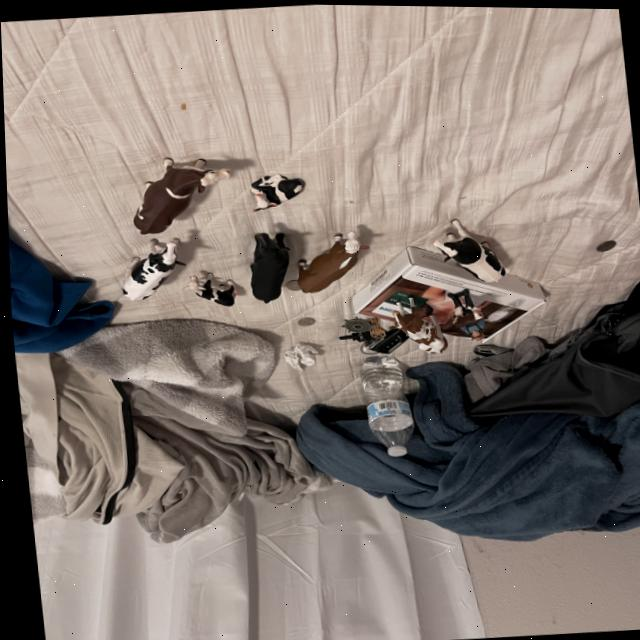cow: (112, 132, 230, 242), (107, 226, 192, 308), (284, 222, 372, 299), (428, 214, 510, 289), (381, 286, 455, 362), (243, 228, 290, 304), (244, 165, 307, 211), (182, 266, 239, 308), (448, 304, 481, 327)
person: (456, 315, 488, 344)
